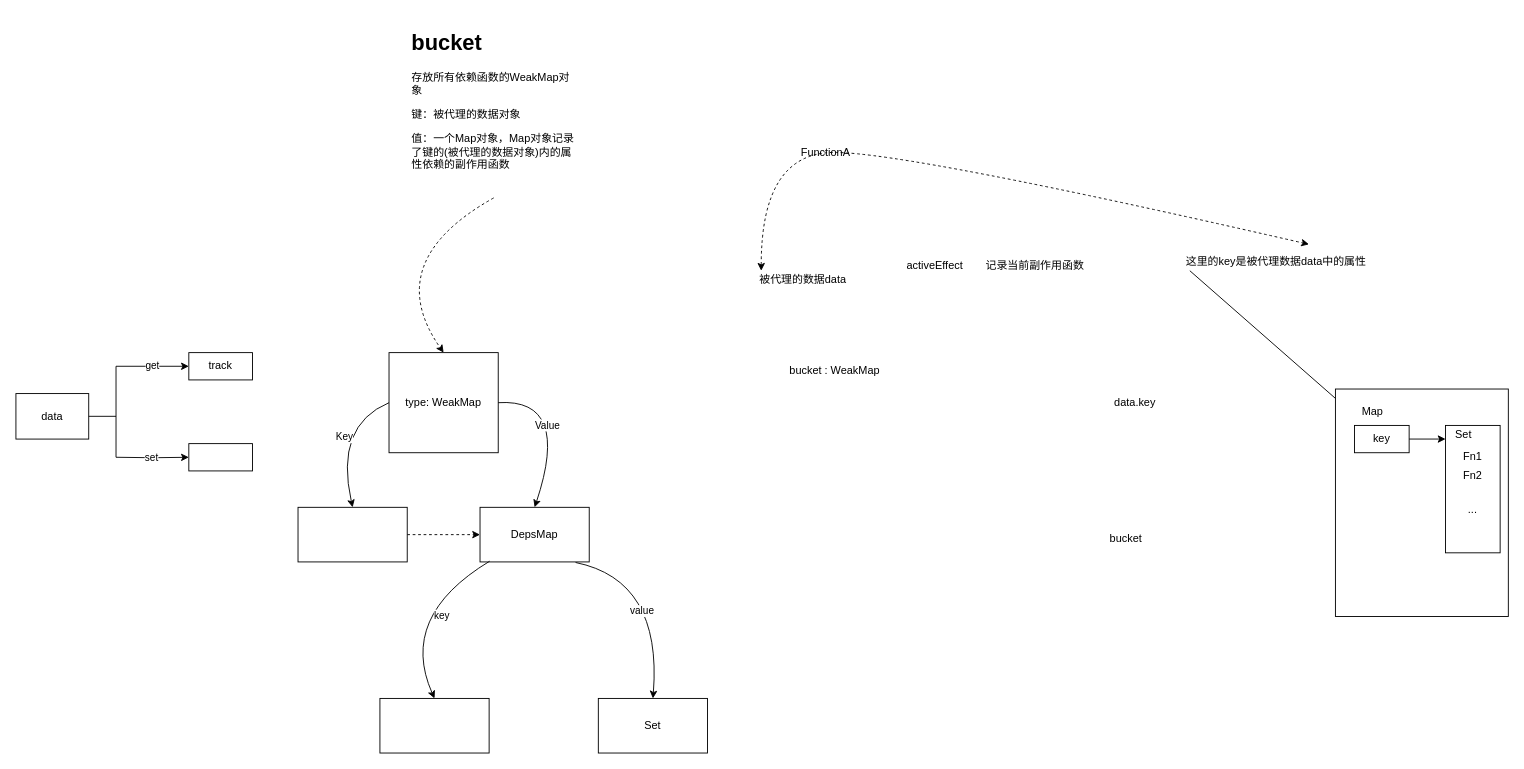
The diagram is 1524 pixels wide and 769 high, and some of its shapes have lost their labels. The shapes that lost their labels are listed below. From the top down, each one's centre as x and y in pixels, then its label:
(x=220, y=457): trigger
(x=352, y=534): Object
(x=434, y=725): Object.key
